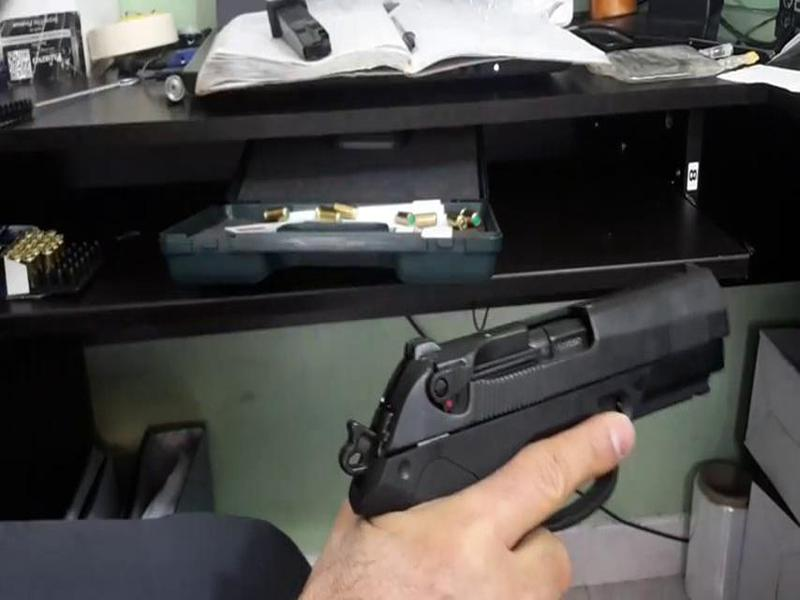Pistola: (349, 258, 732, 539)
